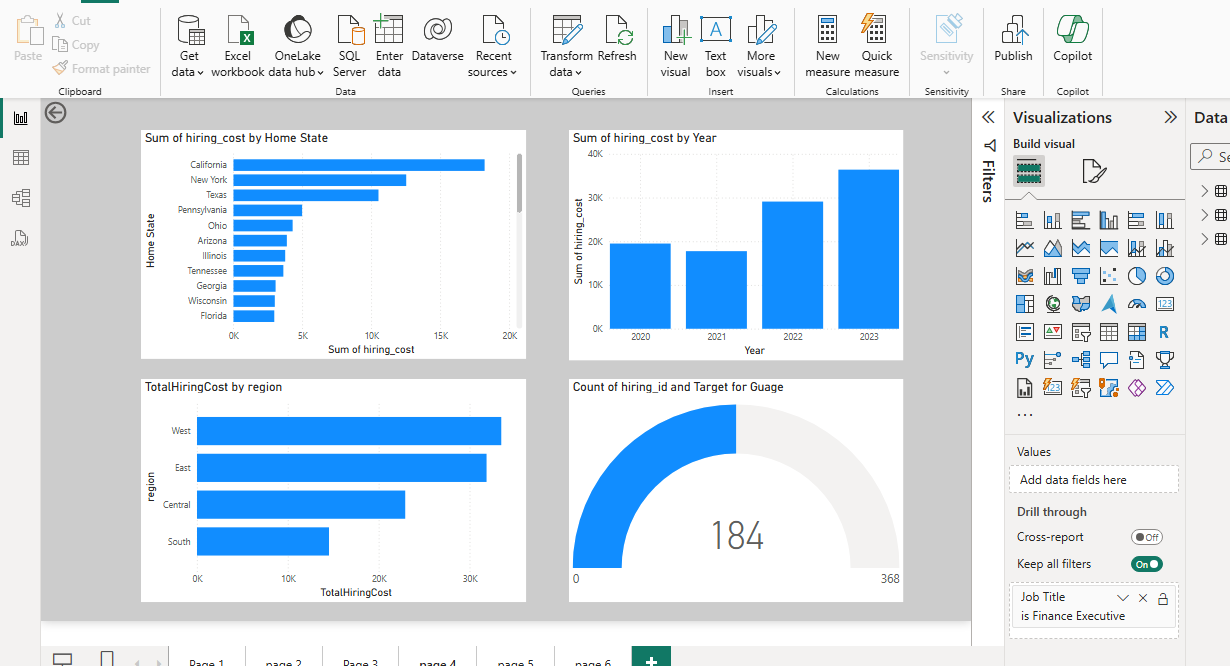

The dashboard page shown, as its layout file describes it:
{"tool":"powerbi","page":{"name":"page 4","canvas":[1280,720],"ordinal":3},"visuals":[{"type":"clusteredBarChart","fields":{"Category":["Employee.Home State"],"Y":["Sum(hiring data(append).hiring_cost)"]},"box":[137.6,44,529.9,315.2],"z":0},{"type":"clusteredColumnChart","fields":{"Category":["hiring data(append).hiring_date.Variation.Date Hierarchy.Year"],"Y":["Sum(hiring data(append).hiring_cost)"]},"box":[726.7,44,459.7,316.6],"z":1000},{"type":"actionButton","box":[0,0,100,40],"z":2000},{"type":"clusteredBarChart","fields":{"Y":["hiring data(append).TotalHiringCost"],"Category":["Store Data.region"]},"box":[137.6,386.8,529.9,306.9],"z":3000},{"type":"gauge","fields":{"Y":["CountNonNull(hiring data(append).hiring_id)"],"TargetValue":["Employee.Target for Guage"]},"box":[727,387,460,307],"z":4000}]}

Visuals, with their boxes on the page's 1280x720 design canvas (x1, y1, x2, y2). These are canvas units, not pixel positions in the 1230x666 screenshot, which may show the page scaled, cropped or inside an application window:
clusteredBarChart - Employee.Home State x Sum(hiring data(append).hiring_cost): <region>138, 44, 668, 359</region>
clusteredColumnChart - hiring data(append).hiring_date.Variation.Date Hierarchy.Year x Sum(hiring data(append).hiring_cost): <region>727, 44, 1186, 361</region>
actionButton: <region>0, 0, 100, 40</region>
clusteredBarChart - hiring data(append).TotalHiringCost x Store Data.region: <region>138, 387, 668, 694</region>
gauge - CountNonNull(hiring data(append).hiring_id) x Employee.Target for Guage: <region>727, 387, 1187, 694</region>
